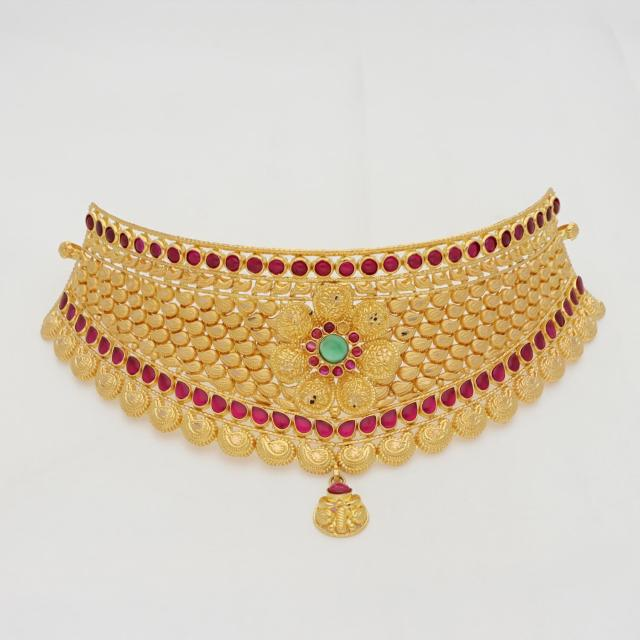missing gem: (338, 323, 348, 333)
